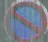No waiting: (4, 3, 47, 39)
